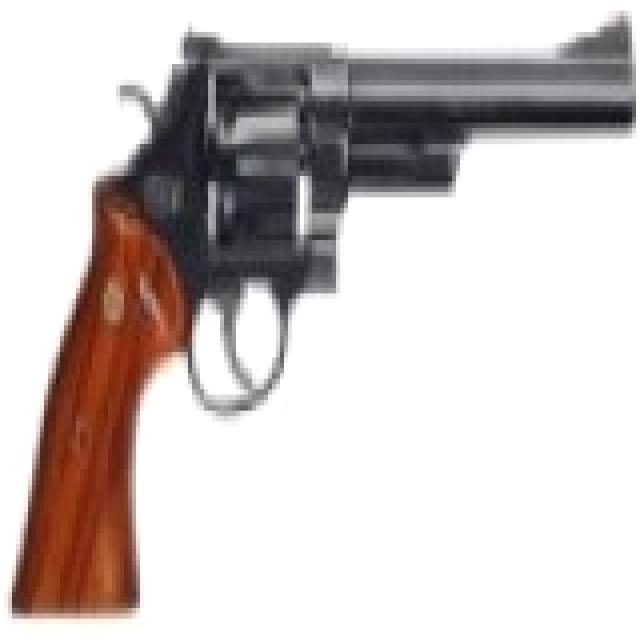pistol: (28, 16, 640, 613)
